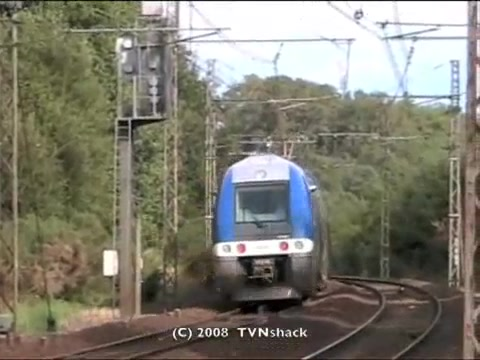train: (208, 150, 325, 312)
